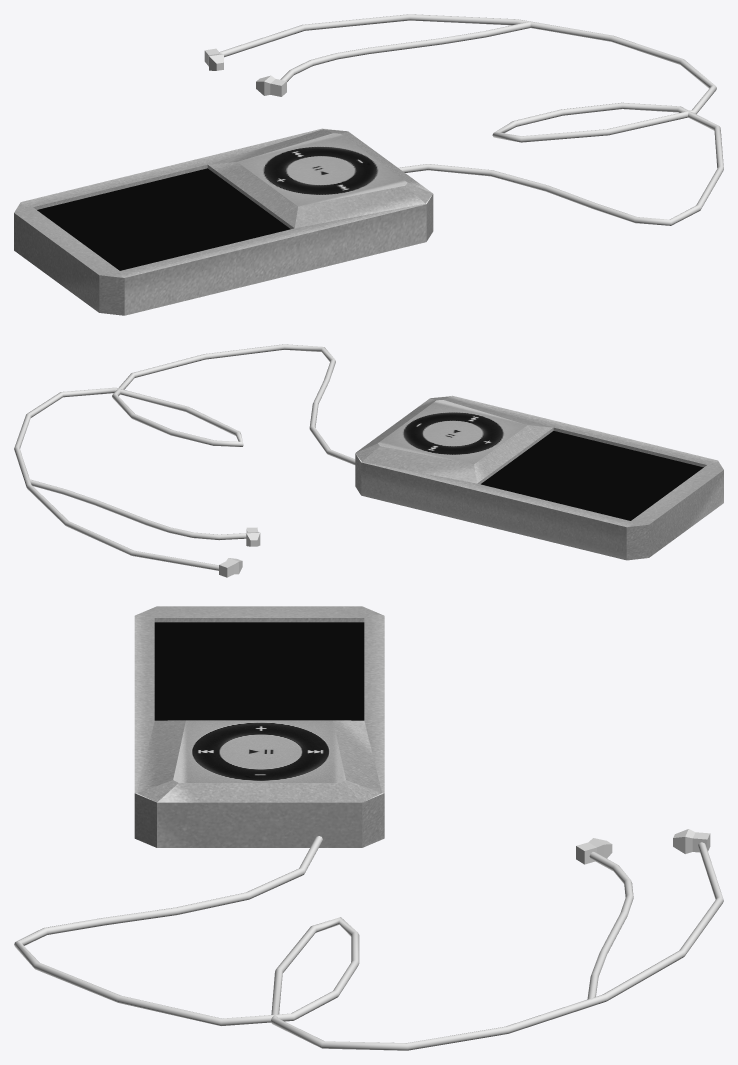
The model's file is плеер.fbx.
3 renders of one model, top to bottom at view 1: azimuth 30°, elevation 25°; view 2: azimuth 150°, elevation 25°; view 3: azimuth 270°, elevation 25°, orthographic. The views are drawn at different scales.
Visible parts, largest first — view 1: Cube, BezierCurve, Cube.001; view 2: Cube, BezierCurve, Cube.001; view 3: Cube, BezierCurve, Cube.001.
Boxes of the visible parts, <box> form: Cube: <box>14,128,433,315</box>; BezierCurve: <box>219,14,723,225</box>; Cube.001: <box>204,48,286,96</box>; Cube: <box>355,395,723,560</box>; BezierCurve: <box>14,344,355,570</box>; Cube.001: <box>219,527,260,577</box>; Cube: <box>134,606,384,847</box>; BezierCurve: <box>14,836,723,1050</box>; Cube.001: <box>576,829,710,864</box>.
Bounding box in the file's own units: 235 × 15.03 × 174.
Materials: 4 (1 with a texture image).
